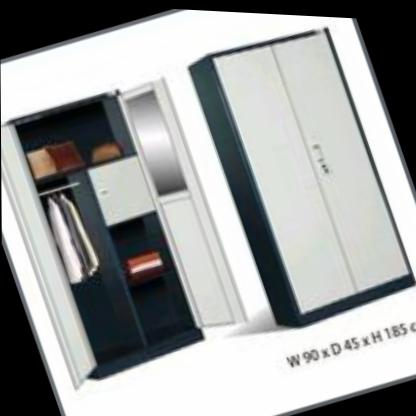Closet: (0, 56, 263, 407), (178, 7, 416, 342)
